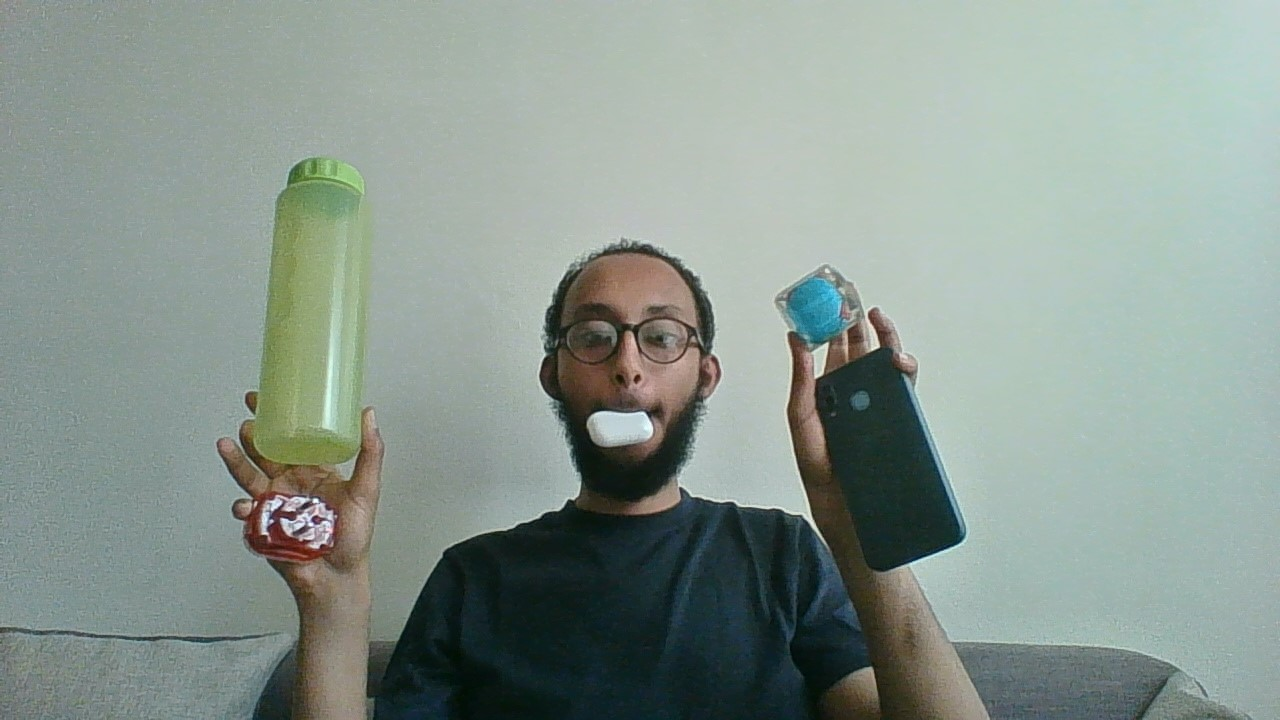Air_pod: (584, 410, 657, 449)
Multi_adapter: (241, 488, 341, 566)
Smart_phone: (798, 344, 971, 576)
Water_bottle: (251, 154, 374, 470)
world_globe: (771, 260, 868, 354)
